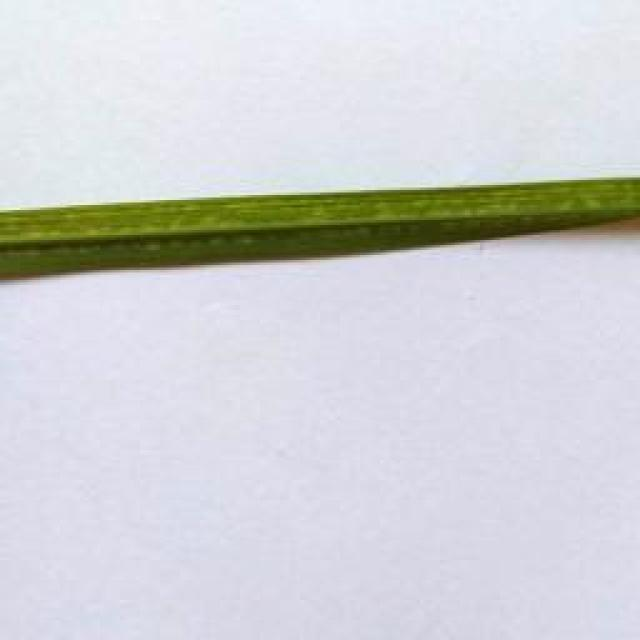Healthy-Plant: (0, 182, 638, 278)
